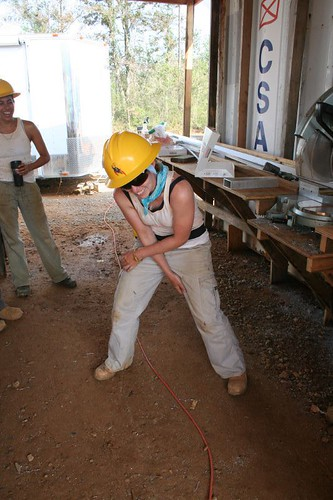person hardhat: (98, 130, 250, 406), (1, 76, 83, 289)
